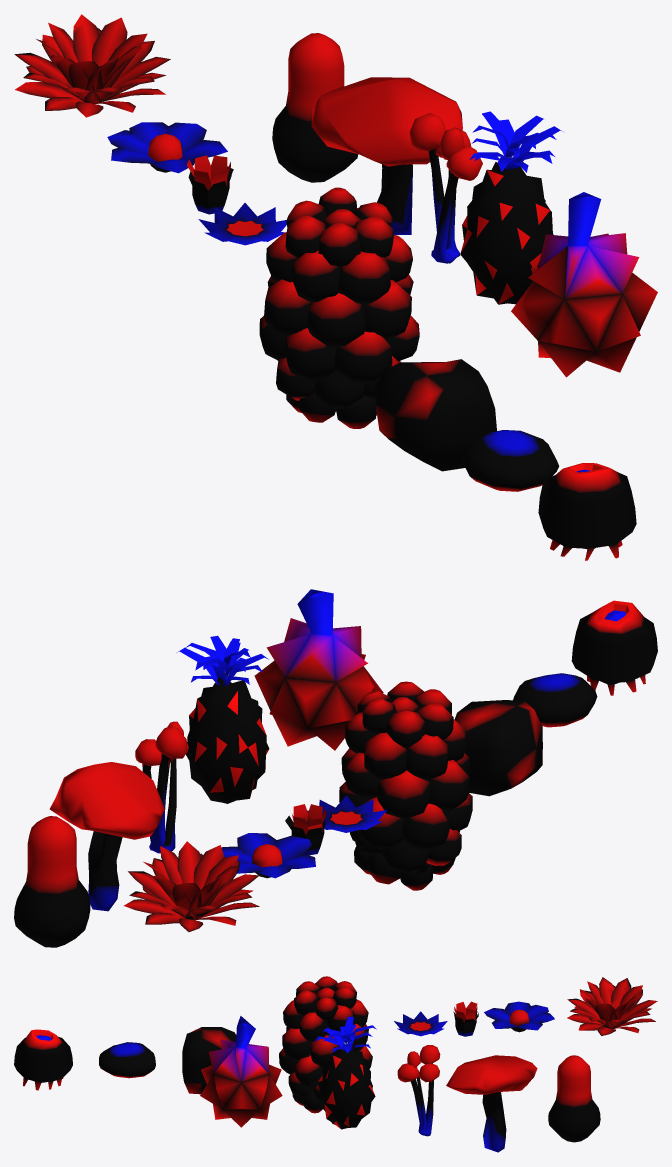
File: test_shrine_meshes.fbx
The picture shows the model from 3 angles, top to bottom: view 1: azimuth 30°, elevation 25°; view 2: azimuth 150°, elevation 25°; view 3: azimuth 270°, elevation 25°; orthographic projection. The views are drawn at different scales.
Parts seen in each view (by area): view 1: orb_nest, durian, pineapple, mushroom_big, rock, flower_pussy, ghord_root_legs, ghord_lantern, mushroom_cluster, luck_stone, flower_lotus, flower_sharp (+1 smaller); view 2: orb_nest, durian, pineapple, mushroom_big, flower_pussy, ghord_lantern, rock, ghord_root_legs, mushroom_cluster, luck_stone, flower_lotus, flower_sharp (+1 smaller); view 3: orb_nest, durian, pineapple, mushroom_big, flower_pussy, ghord_lantern, ghord_root_legs, rock, mushroom_cluster, luck_stone, flower_lotus, flower_sharp (+1 smaller).
Boxes of the visible parts, x1,y1,x2,y2 form: orb_nest: [259, 187, 419, 428]; durian: [511, 192, 657, 377]; pineapple: [460, 111, 564, 304]; mushroom_big: [311, 77, 462, 234]; rock: [375, 359, 496, 471]; flower_pussy: [14, 14, 170, 117]; ghord_root_legs: [538, 463, 636, 560]; ghord_lantern: [272, 33, 358, 182]; mushroom_cluster: [409, 113, 482, 263]; luck_stone: [462, 430, 559, 491]; flower_lotus: [107, 122, 227, 173]; flower_sharp: [198, 203, 286, 245]; orb_nest: [339, 681, 472, 890]; durian: [254, 589, 383, 750]; pineapple: [177, 635, 269, 803]; mushroom_big: [49, 762, 164, 911]; flower_pussy: [123, 841, 259, 931]; ghord_lantern: [14, 816, 90, 947]; rock: [454, 700, 542, 796]; ghord_root_legs: [571, 600, 657, 695]; mushroom_cluster: [135, 721, 188, 853]; luck_stone: [513, 673, 597, 727]; flower_lotus: [221, 833, 315, 878]; flower_sharp: [307, 795, 386, 832]; orb_nest: [279, 976, 372, 1113]; durian: [200, 1016, 282, 1127]; pineapple: [315, 1016, 376, 1129]; mushroom_big: [446, 1055, 537, 1152]; flower_pussy: [567, 977, 657, 1035]; ghord_lantern: [548, 1055, 600, 1142]; ghord_root_legs: [14, 1029, 72, 1090]; rock: [182, 1027, 236, 1094]; mushroom_cluster: [397, 1045, 440, 1136]; luck_stone: [99, 1042, 155, 1078]; flower_lotus: [484, 1001, 554, 1032]; flower_sharp: [394, 1011, 447, 1036].
Size of the model in its own units: 7.86 by 5.38 by 23.25.
